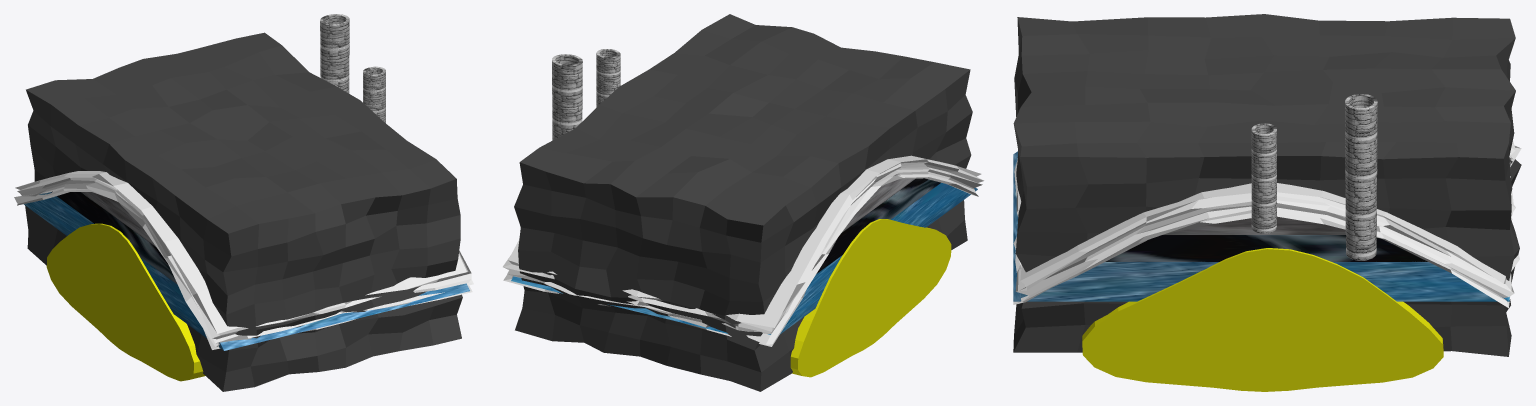
The model's file is well underground earthblenr uncut.gltf.
3 renders of one model, left to right at view 1: azimuth 30°, elevation 25°; view 2: azimuth 150°, elevation 25°; view 3: azimuth 270°, elevation 25°, orthographic. The views are drawn at different scales.
Visible parts, largest first — view 1: Cube, Cylinder, Cube.001, Cube.004, Cylinder.002, Cube.003, Cylinder.001, Cube.002; view 2: Cube, Cylinder, Cube.001, Cube.004, Cylinder.002, Cube.003, Cylinder.001, Cube.002; view 3: Cube, Cylinder, Cube.001, Cube.004, Cube.003, Cylinder.002, Cylinder.001, Cube.002.
Boxes of the visible parts, left/top/right/bottom form: Cube: left=25, top=32, right=462, bottom=391; Cylinder: left=46, top=223, right=205, bottom=381; Cube.001: left=14, top=171, right=473, bottom=349; Cube.004: left=24, top=192, right=469, bottom=350; Cylinder.002: left=320, top=14, right=349, bottom=93; Cube.003: left=51, top=191, right=177, bottom=284; Cylinder.001: left=363, top=66, right=385, bottom=122; Cube.002: left=81, top=192, right=155, bottom=246; Cube: left=514, top=14, right=972, bottom=391; Cylinder: left=790, top=219, right=951, bottom=377; Cube.001: left=503, top=155, right=983, bottom=346; Cube.004: left=511, top=183, right=977, bottom=334; Cylinder.002: left=552, top=54, right=582, bottom=140; Cube.003: left=816, top=178, right=940, bottom=273; Cylinder.001: left=596, top=49, right=620, bottom=107; Cube.002: left=842, top=174, right=914, bottom=232; Cube: left=1013, top=14, right=1521, bottom=356; Cylinder: left=1082, top=248, right=1443, bottom=391; Cube.001: left=1013, top=140, right=1521, bottom=308; Cube.004: left=1013, top=151, right=1509, bottom=301; Cube.003: left=1105, top=235, right=1427, bottom=261; Cylinder.002: left=1345, top=94, right=1377, bottom=260; Cylinder.001: left=1251, top=123, right=1276, bottom=233; Cube.002: left=1163, top=216, right=1345, bottom=234.
Size of the model in its own units: 22.24 by 18.4 by 28.96.
6 materials, 4 textured.
